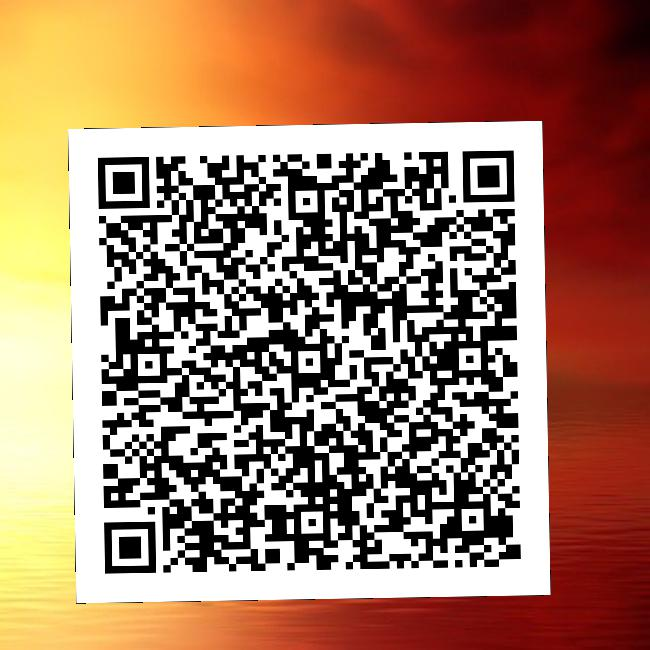qr_code: (68, 120, 550, 602)
